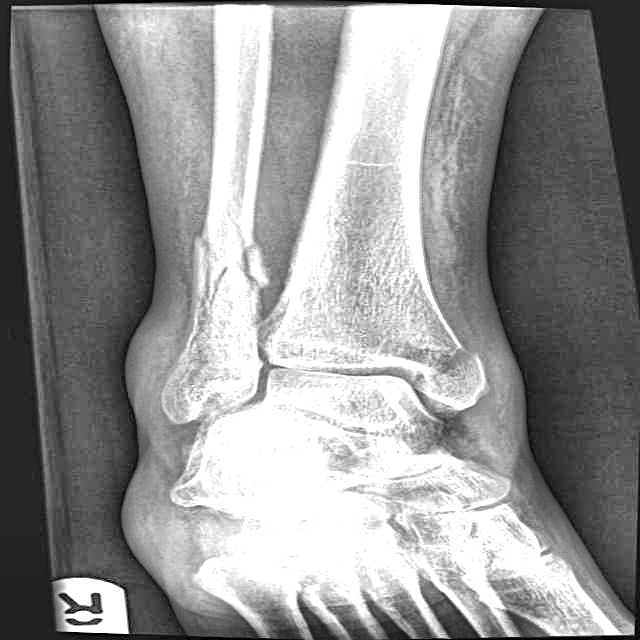Comminuted: (170, 221, 277, 314)
Greenstick: (373, 330, 502, 392)
